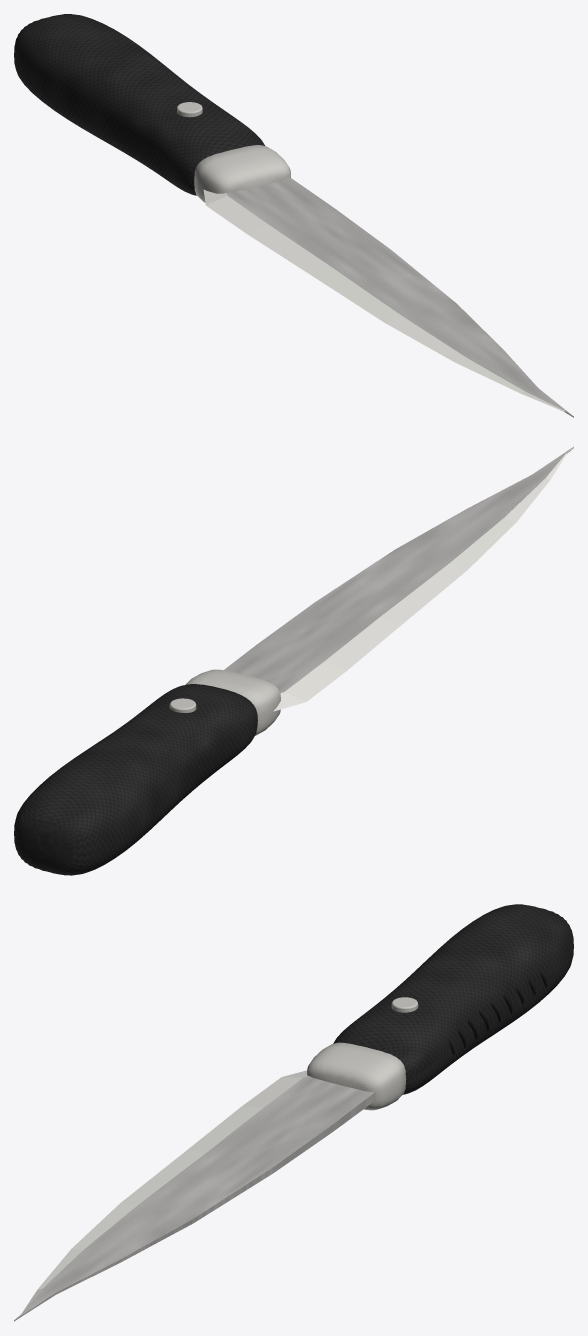
File: huaqiang-knife.glb
3 renders of one model, top to bottom at view 1: azimuth 30°, elevation 25°; view 2: azimuth 150°, elevation 25°; view 3: azimuth 330°, elevation 25°, orthographic. The views are drawn at different scales.
Parts seen in each view (by area): view 1: HuaqiangKnife / Textured black handle polymer, KnifeBlade, HuaqiangKnife / Polished steel collar; view 2: HuaqiangKnife / Textured black handle polymer, KnifeBlade, HuaqiangKnife / Polished steel collar; view 3: KnifeBlade, HuaqiangKnife / Textured black handle polymer, HuaqiangKnife / Polished steel collar, HuaqiangKnife / Dark grip recesses.
Part boxes in pixels (box(x1,y1,x2,y2)): HuaqiangKnife / Textured black handle polymer: box(14, 14, 264, 195); KnifeBlade: box(203, 177, 573, 417); HuaqiangKnife / Polished steel collar: box(177, 102, 290, 202); HuaqiangKnife / Textured black handle polymer: box(14, 684, 257, 875); KnifeBlade: box(224, 446, 573, 711); HuaqiangKnife / Polished steel collar: box(169, 669, 280, 735); KnifeBlade: box(14, 1070, 375, 1321); HuaqiangKnife / Textured black handle polymer: box(333, 904, 573, 1094); HuaqiangKnife / Polished steel collar: box(307, 997, 418, 1110); HuaqiangKnife / Dark grip recesses: box(449, 971, 547, 1055).
Size of the model in its own units: 0.0353 by 0.0259 by 0.3308.
5 materials, 2 textured.
